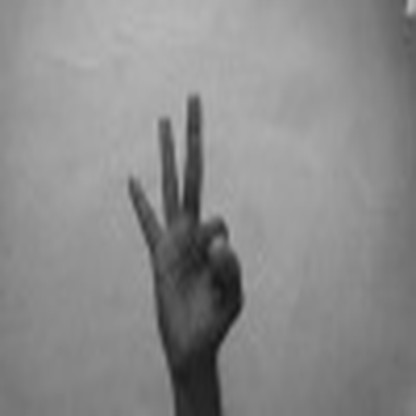f: (119, 82, 245, 354)
